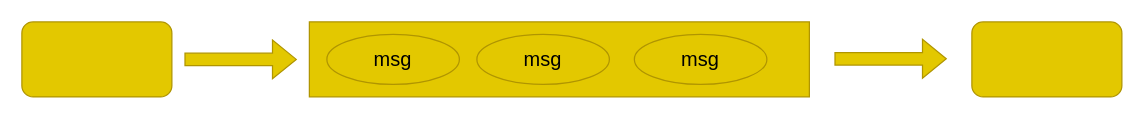
This 1144x119 diagram has some shape labels left out. The shapes that lost their labels are listed below. From the top down, each one's centre as x and y in pixels, then its label:
At pixel 96 59: "生产者".
At pixel 1046 59: "消费者".
